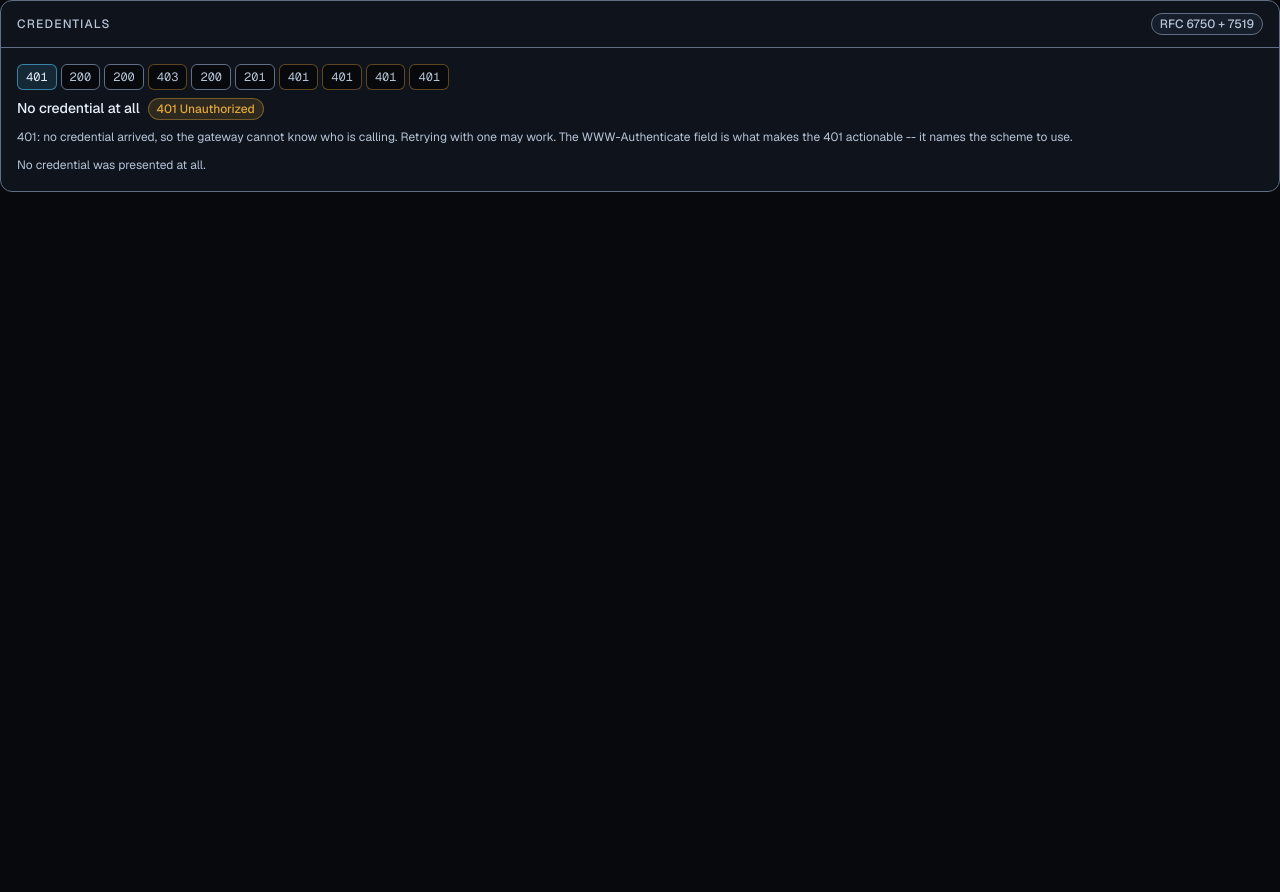
it: the credential view › shows every claim, including the ones that should not be in a token
This screenshot has width=1280, height=892.
What coordinates should you click on to do the following:
click the button named "Bearer token, read"
I would click on:
 (211, 77)
Its box is [191,64,231,90].
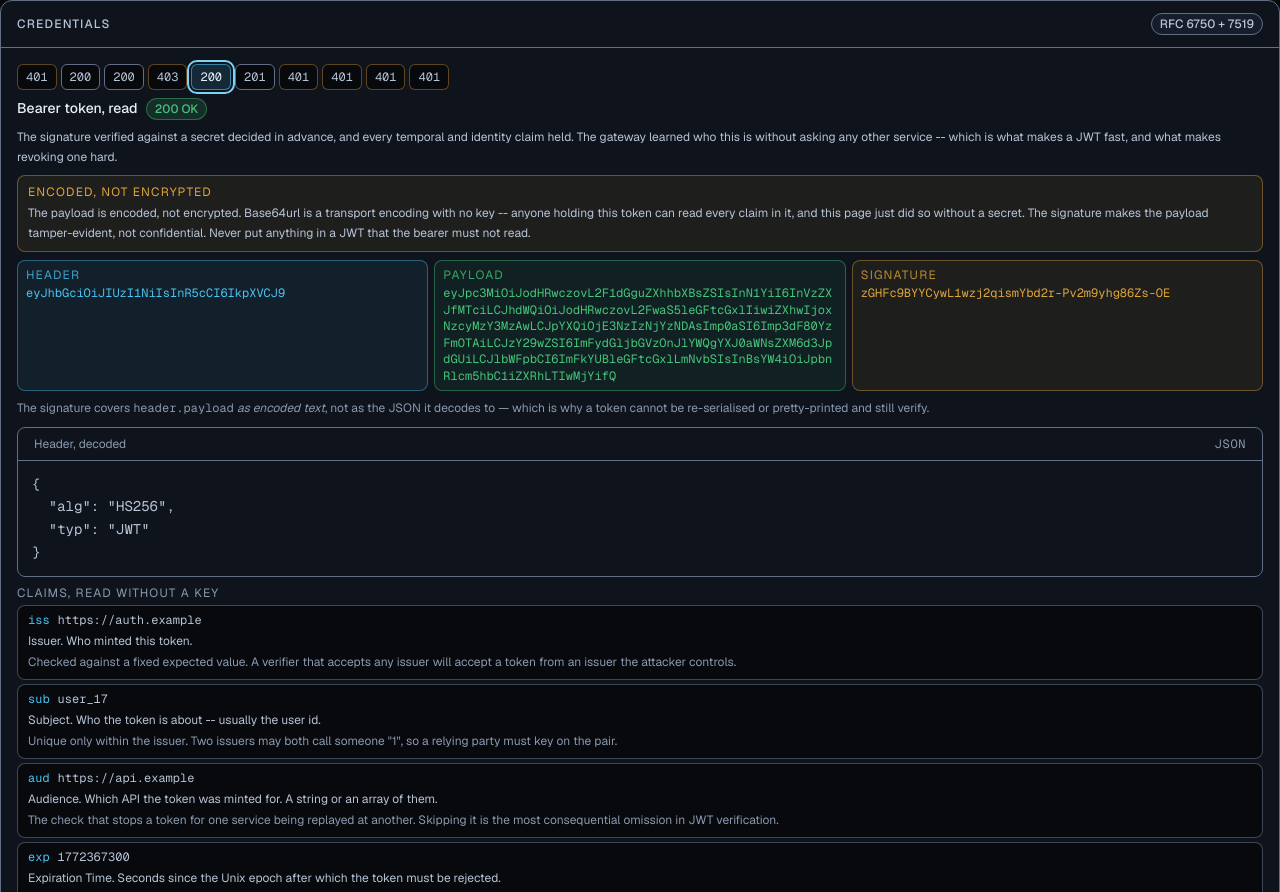
Now the text "Which API the token was minted for" is shown, box [28,790,438,806]
